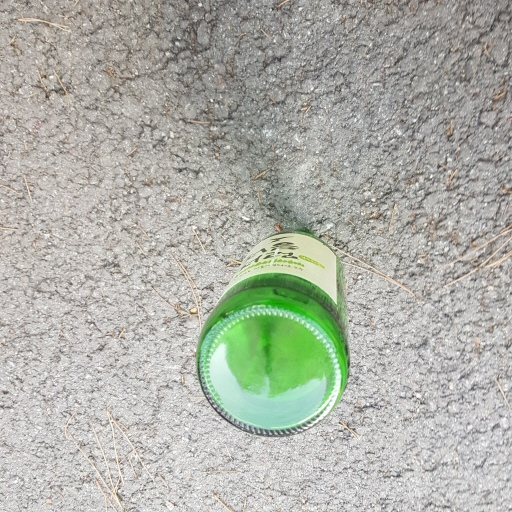Glass_0: (192, 231, 358, 439)
